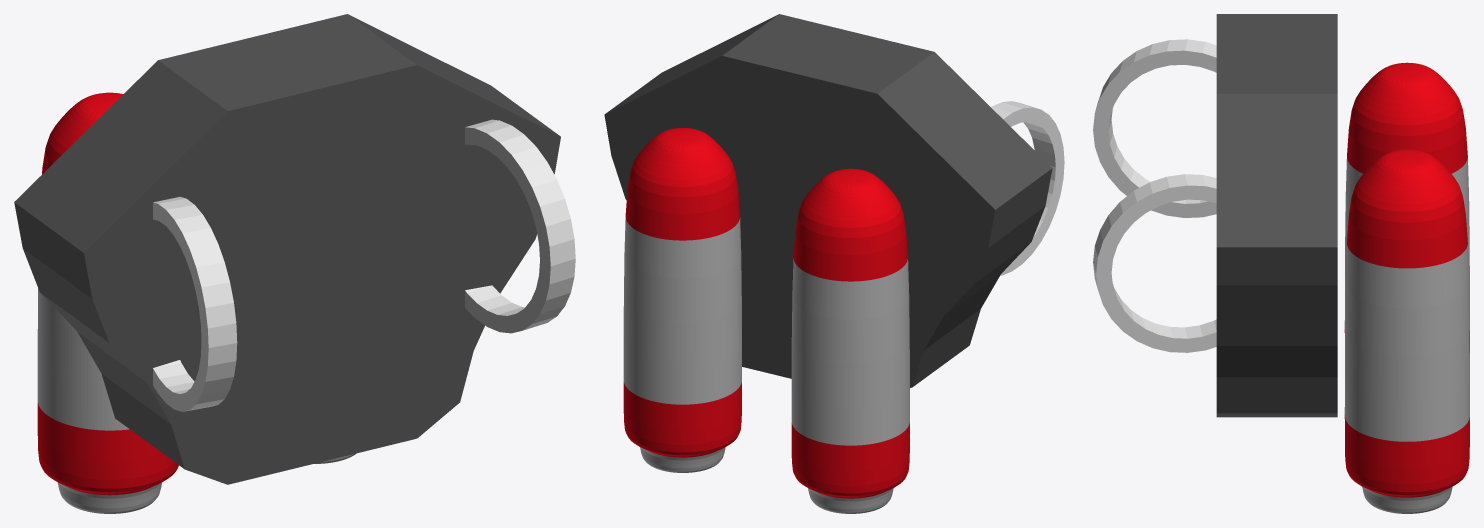
Rendered from JetPack.fbx.
The picture shows the model from 3 angles, left to right: view 1: azimuth 30°, elevation 25°; view 2: azimuth 150°, elevation 25°; view 3: azimuth 270°, elevation 25°; orthographic projection. The views are drawn at different scales.
Parts seen in each view (by area): view 1: Cube, Cylinder.001, Cylinder; view 2: Cube, Cylinder, Cylinder.001; view 3: Cylinder, Cube, Cylinder.001.
Part boxes in pixels (x1=…): Cube: x1=14, y1=14, x2=560, y2=484; Cylinder.001: x1=153, y1=119, x2=575, y2=411; Cylinder: x1=37, y1=92, x2=356, y2=513; Cube: x1=604, y1=14, x2=1052, y2=387; Cylinder: x1=623, y1=127, x2=909, y2=513; Cylinder.001: x1=991, y1=101, x2=1064, y2=275; Cylinder: x1=1344, y1=62, x2=1469, y2=513; Cube: x1=1216, y1=14, x2=1337, y2=417; Cylinder.001: x1=1093, y1=39, x2=1216, y2=352.
Bounding box in the file's own units: 59.83 × 55.3 × 47.29.
